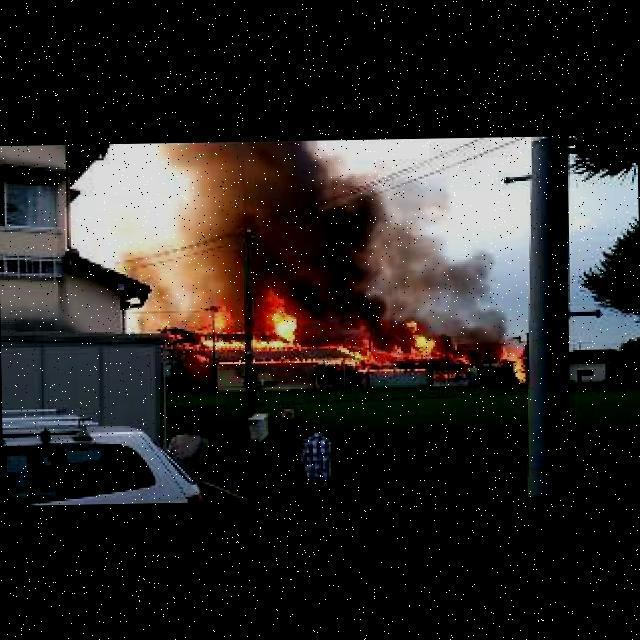Fire: (338, 320, 477, 366), (202, 300, 303, 350), (156, 324, 209, 363), (219, 356, 353, 368), (501, 349, 526, 381), (355, 367, 427, 374), (435, 373, 469, 378)
Smoke: (161, 135, 412, 321), (413, 231, 509, 365)
